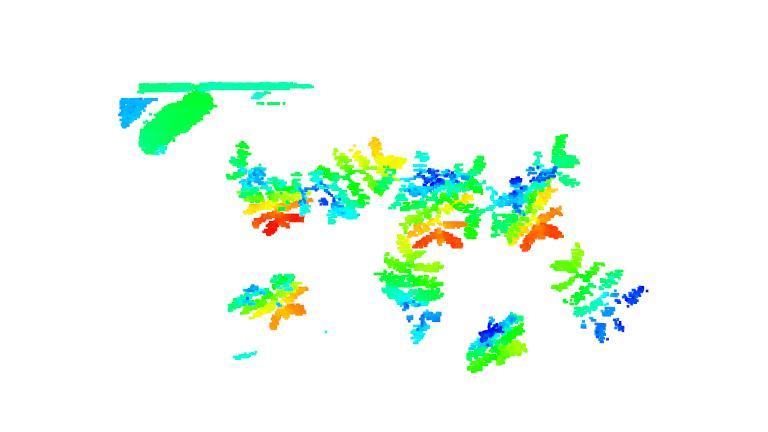chickpea: (486, 132, 582, 249), (546, 243, 651, 345), (295, 132, 402, 225), (390, 146, 482, 250), (227, 142, 304, 234), (382, 236, 448, 341), (224, 269, 309, 328), (461, 312, 535, 375)
